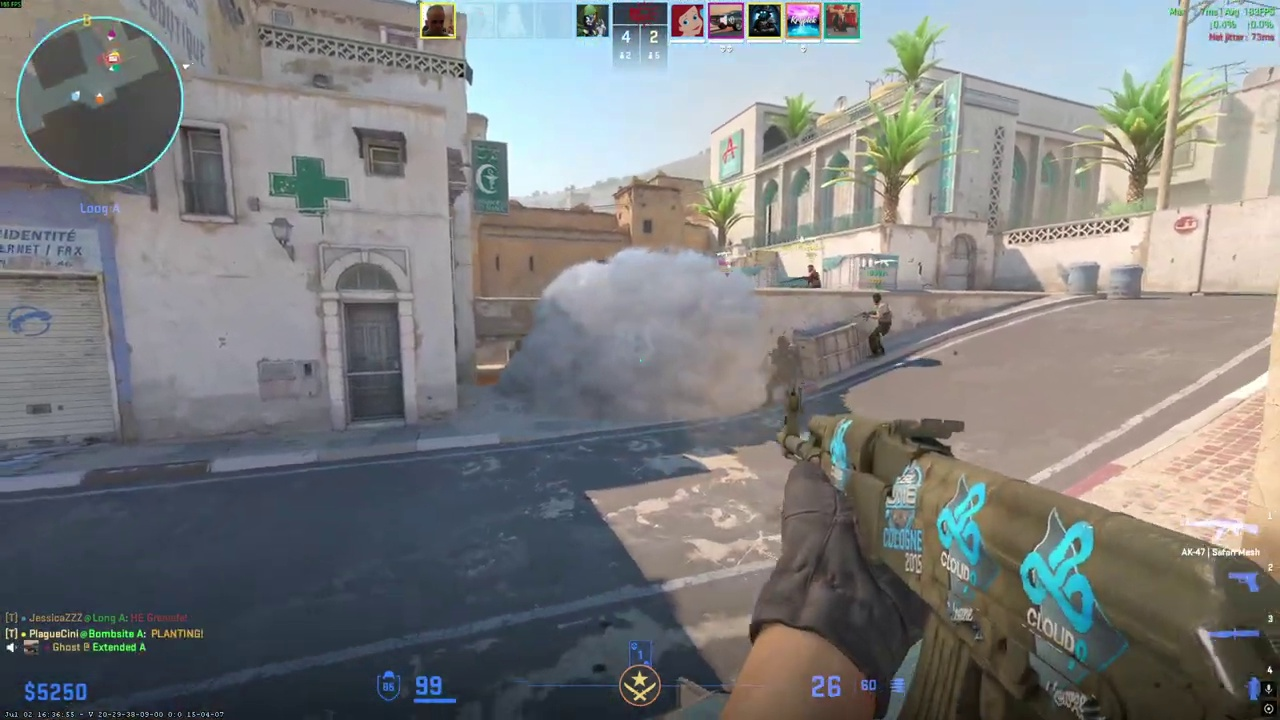Terrorist: (864, 292, 893, 359), (805, 263, 822, 287)
